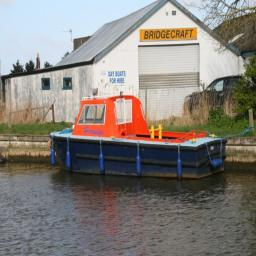tugboat: (49, 90, 229, 185)
